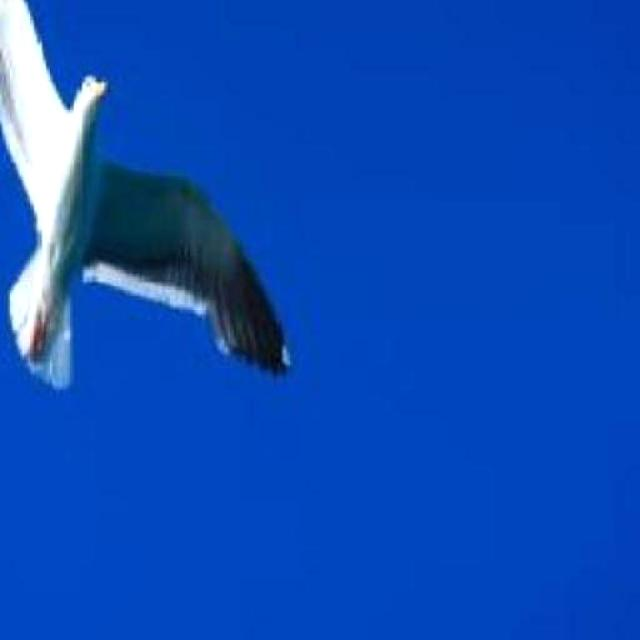airplane: (0, 0, 294, 389)
